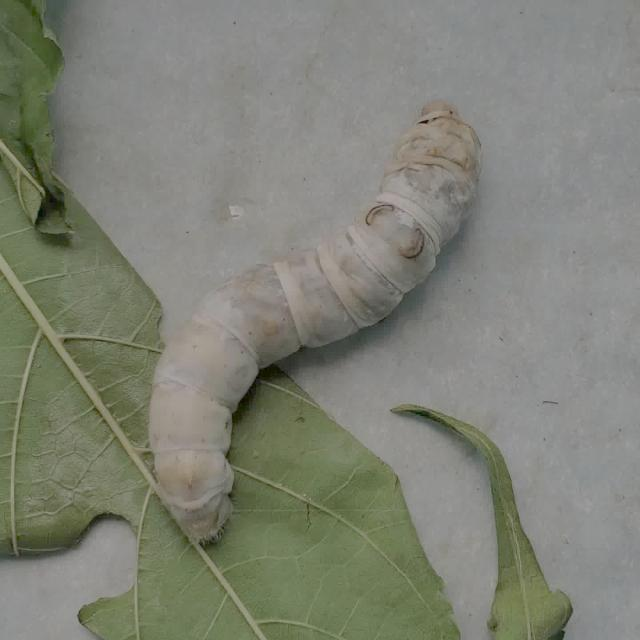Grasserie: (134, 90, 490, 551)
